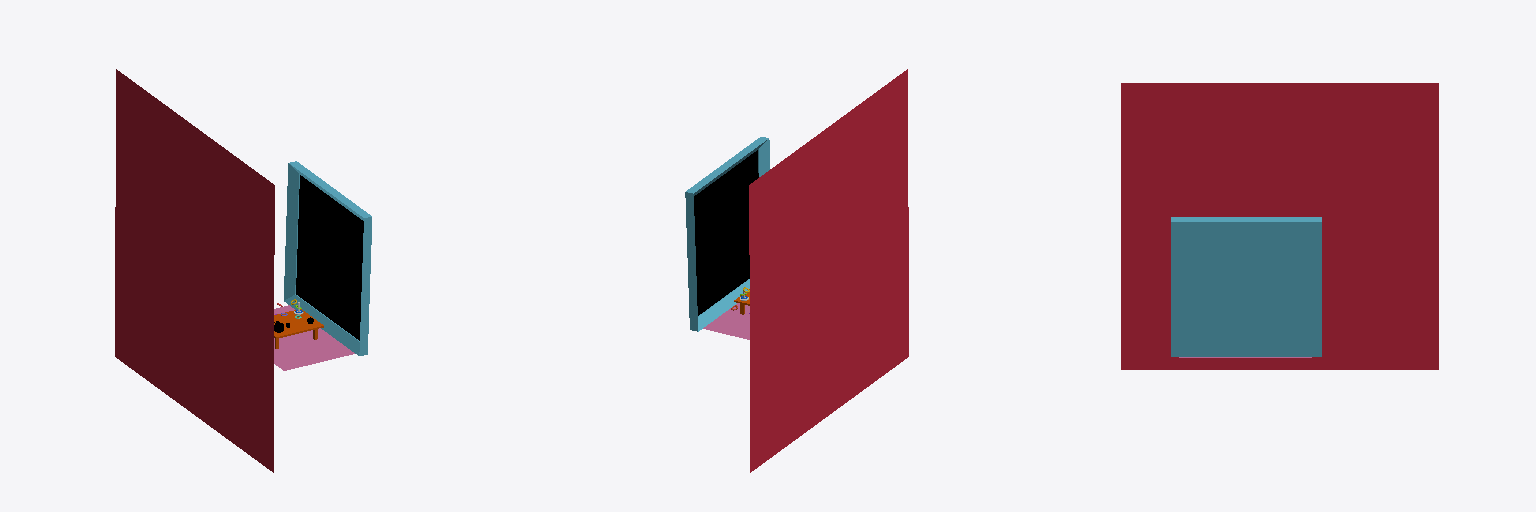
The model's file is finalscene2.obj.
3 renders of one model, left to right at view 1: azimuth 30°, elevation 25°; view 2: azimuth 150°, elevation 25°; view 3: azimuth 270°, elevation 25°, orthographic.
Visible parts, largest first — view 1: Plane.001, 14319_Artik_Mirror-Black_v1_l1.001, Plane, Cube.003; view 2: Plane.001, 14319_Artik_Mirror-Black_v1_l1.001, Plane; view 3: Plane.001, 14319_Artik_Mirror-Black_v1_l1.001.
Part boxes in pixels (left/top/right/bottom): Plane.001: left=115, top=69, right=274, bottom=472; 14319_Artik_Mirror-Black_v1_l1.001: left=284, top=161, right=371, bottom=355; Plane: left=274, top=305, right=354, bottom=370; Cube.003: left=274, top=309, right=323, bottom=348; Plane.001: left=749, top=69, right=908, bottom=472; 14319_Artik_Mirror-Black_v1_l1.001: left=685, top=137, right=769, bottom=331; Plane: left=703, top=303, right=749, bottom=339; Plane.001: left=1121, top=83, right=1438, bottom=369; 14319_Artik_Mirror-Black_v1_l1.001: left=1171, top=217, right=1321, bottom=356.
Size of the model in its own units: 14.81 by 32.99 by 32.99.